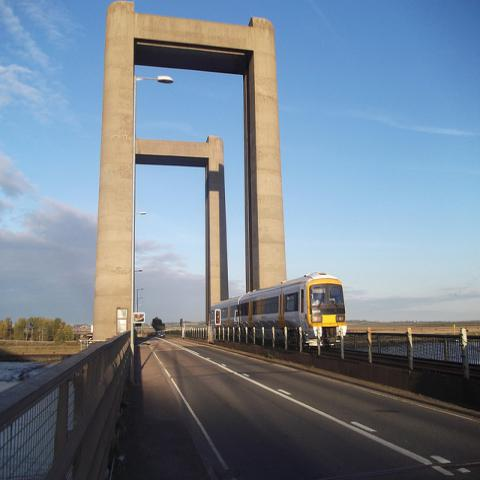car: (157, 330, 166, 338)
